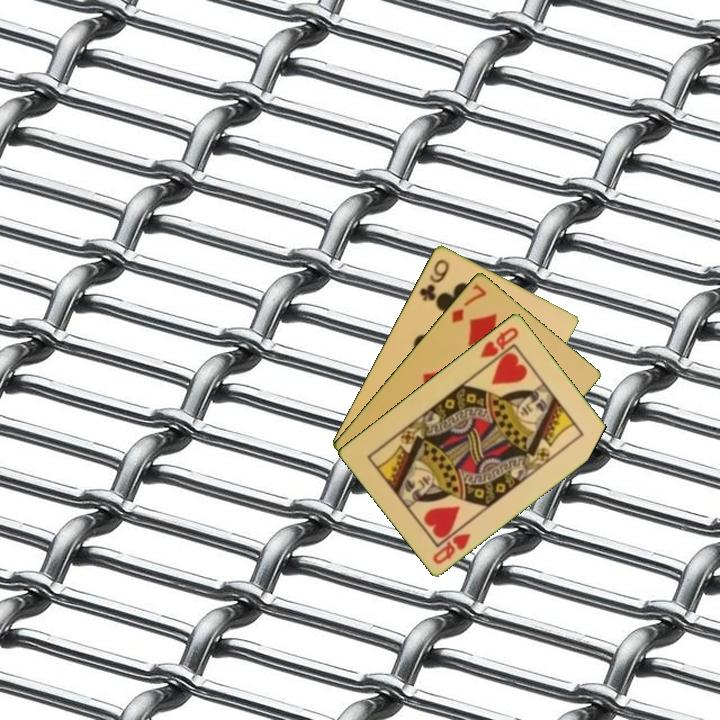7d: (448, 280, 489, 326)
9c: (415, 255, 452, 304)
Qh: (429, 529, 474, 567), (477, 323, 522, 360)
